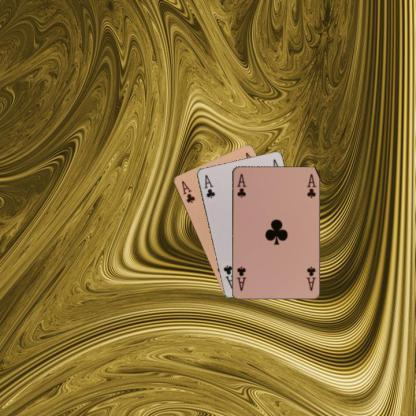Ac: (178, 178, 196, 204), (303, 263, 317, 292), (202, 172, 216, 200), (234, 171, 247, 199)
